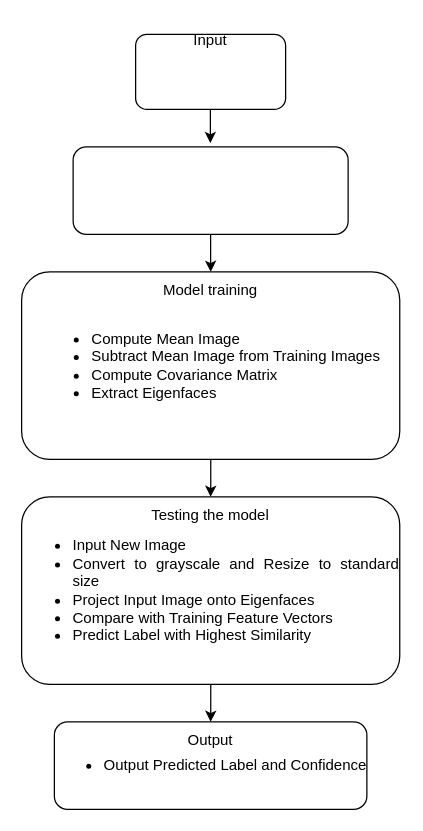
Some shapes in this 423 by 831 pixel diagram are drawn without their labels. Each missing label, with the box of its shape:
Convert Images to grayscale Resize to standard (200x200 pixels): (72, 146, 348, 234)
Person's Images: (134, 33, 286, 109)
